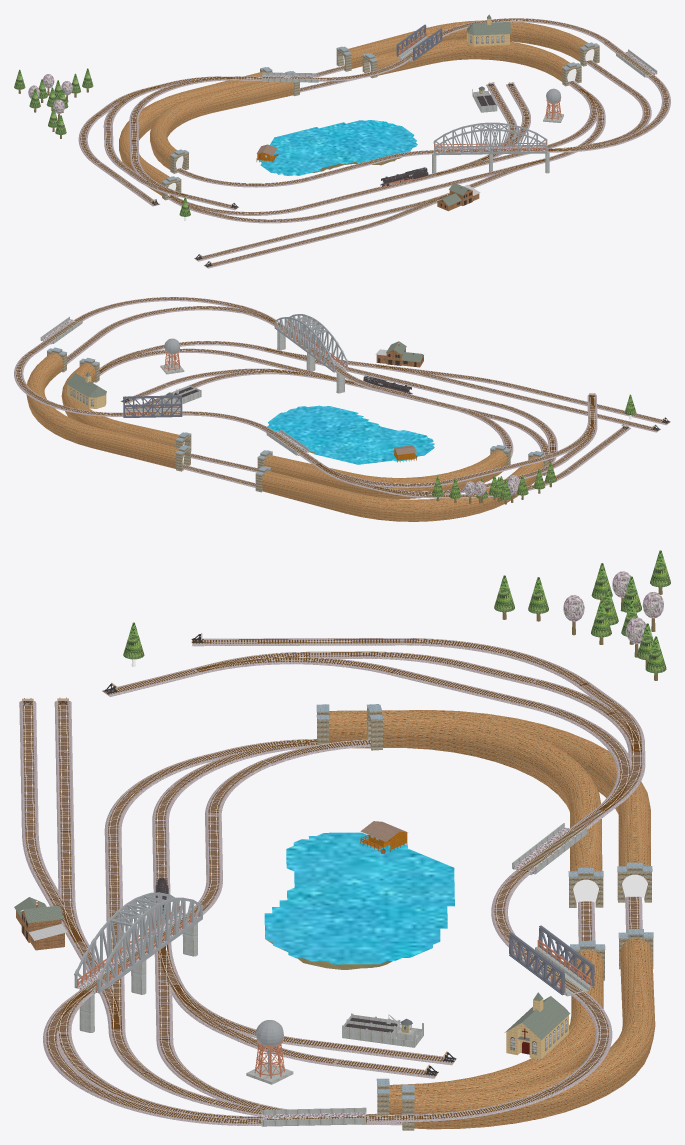
3 renders of one model, top to bottom at view 1: azimuth 30°, elevation 25°; view 2: azimuth 150°, elevation 25°; view 3: azimuth 270°, elevation 25°, orthographic. The views are drawn at different scales.
Bounding box in the file's own units: 359 × 60.7 × 207.
Materials: 21 (19 with a texture image).
